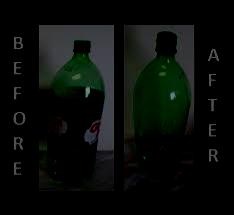Plastic: (133, 31, 191, 181)
